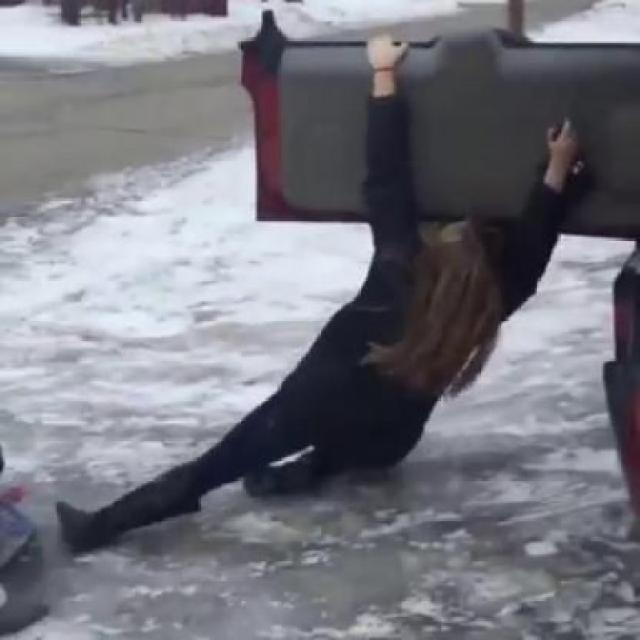fall: (53, 41, 581, 561)
